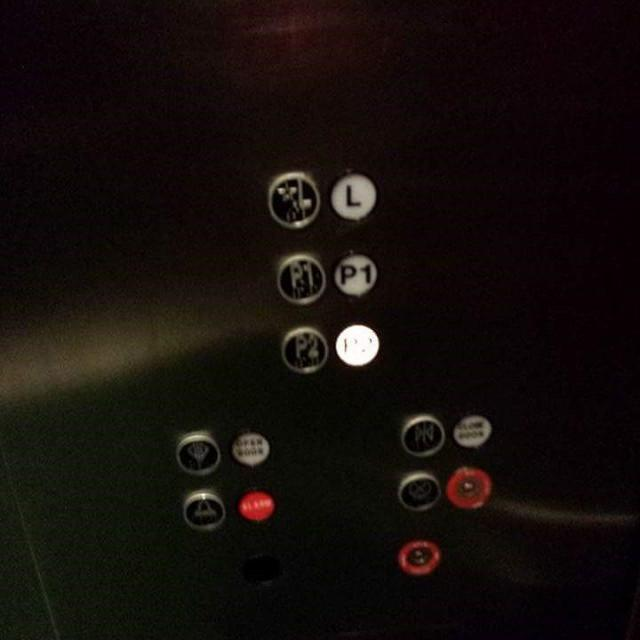L: (330, 169, 377, 221)
P1: (274, 253, 324, 305), (332, 250, 378, 297)
P2: (279, 325, 327, 374)
alarm: (181, 488, 223, 535)
blur: (334, 320, 379, 367)
close: (398, 411, 446, 458)
indicator: (446, 465, 492, 509), (395, 537, 441, 576)
open: (173, 431, 220, 477)
sL: (266, 166, 319, 230)
stop: (394, 470, 440, 512)
text_alarm bell: (236, 487, 274, 524)
text_blur: (230, 428, 270, 468), (451, 413, 493, 450)
